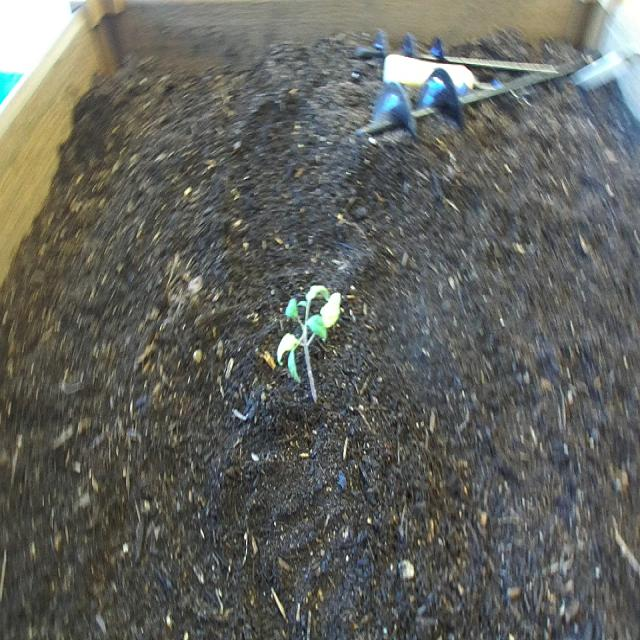Healthy: (270, 266, 346, 417)
